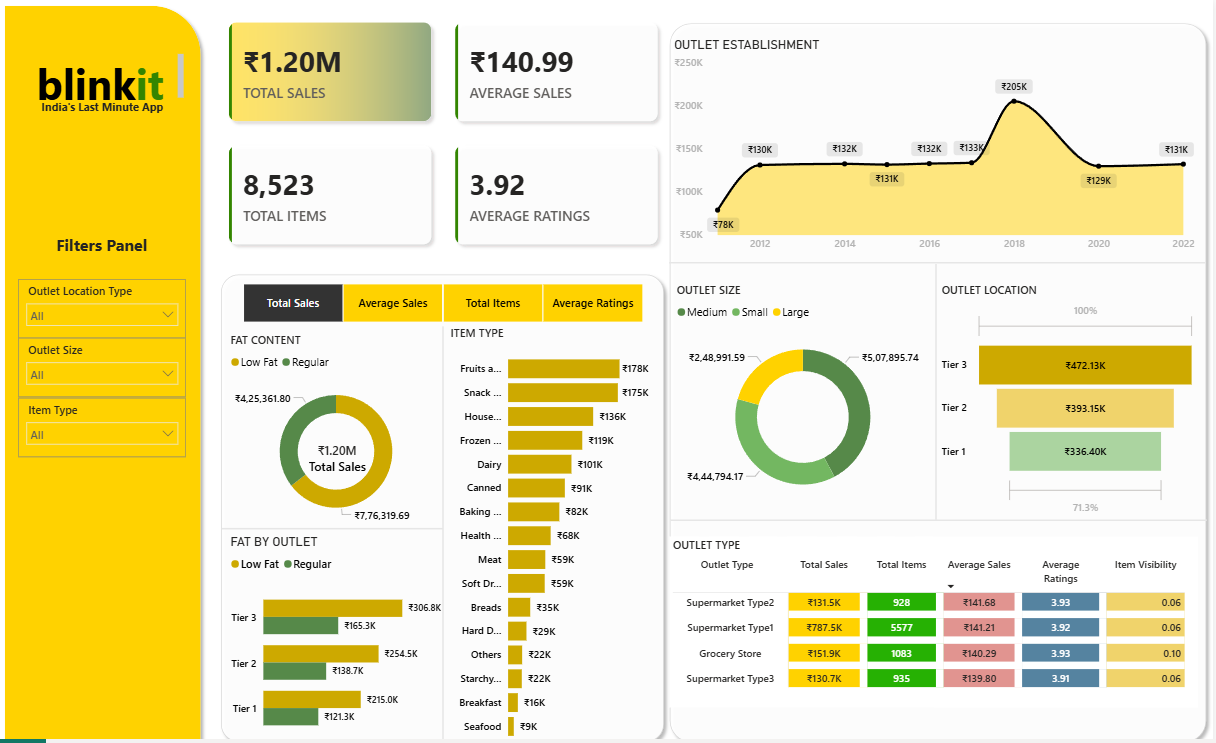

The dashboard page shown, as its layout file describes it:
{"tool":"powerbi","page":{"name":"Page 1","canvas":[1620,1000],"ordinal":0},"visuals":[{"type":"shape","box":[0,0,279.2,1400.5],"z":0},{"type":"textbox","box":[48,128,182,30],"z":1000},{"type":"textbox","box":[28,68,224,76],"z":2000},{"type":"cardVisual","fields":{"Data":["BlinkIT Grocery Data.Total Sales","BlinkIT Grocery Data.Average Sales","BlinkIT Grocery Data.Total Items","BlinkIT Grocery Data.Average Ratings"]},"box":[276.2,0,635,358.8],"z":3000},{"type":"shape","box":[288.6,358.6,608.6,641.4],"z":4000},{"type":"slicer","fields":{"Values":["Metrics.Metrics"]},"box":[301.2,372.5,581.2,63.8],"z":5000},{"type":"donutChart","title":"FAT CONTENT","fields":{"Y":["BlinkIT Grocery Data.Total Sales"],"Category":["BlinkIT Grocery Data.Item Fat Content"]},"box":[305,443.3,291.7,268.3],"z":6000},{"type":"cardVisual","fields":{"Data":["BlinkIT Grocery Data.Total Sales"]},"box":[383.3,556.7,138.3,111.7],"z":7000},{"type":"clusteredBarChart","title":"FAT BY OUTLET","fields":{"Y":["BlinkIT Grocery Data.Total Sales"],"Category":["BlinkIT Grocery Data.Outlet Location Type"],"Series":["BlinkIT Grocery Data.Item Fat Content"]},"box":[305,713.3,291.7,286.7],"z":8000},{"type":"shape","box":[298.8,700,295,12.5],"z":9000},{"type":"shape","box":[588.8,436.2,10,555],"z":10000},{"type":"barChart","title":"ITEM TYPE","fields":{"Y":["BlinkIT Grocery Data.Total Sales"],"Category":["BlinkIT Grocery Data.Item Type"]},"box":[598.6,434.3,274.3,565.7],"z":11000},{"type":"shape","box":[886.7,23.3,733.3,976.7],"z":12000},{"type":"lineChart","title":"OUTLET ESTABLISHMENT","fields":{"Y":["BlinkIT Grocery Data.Total Sales"],"Category":["BlinkIT Grocery Data.Outlet Establishment Year"]},"box":[896,50,704,296],"z":13000},{"type":"shape","box":[895.6,345.6,714.4,13.3],"z":14000},{"type":"donutChart","title":"OUTLET SIZE","fields":{"Y":["BlinkIT Grocery Data.Total Sales"],"Category":["BlinkIT Grocery Data.Outlet Size"]},"box":[900,376.7,346.7,310],"z":15000},{"type":"shape","box":[1246,354,8,341],"z":16000},{"type":"funnel","title":"OUTLET LOCATION","fields":{"Y":["BlinkIT Grocery Data.Total Sales"],"Category":["BlinkIT Grocery Data.Outlet Location Type"]},"box":[1253.3,376.7,348.3,318.3],"z":17000},{"type":"shape","box":[896.7,688.3,715,13.3],"z":18000},{"type":"pivotTable","title":"OUTLET TYPE","fields":{"Values":["BlinkIT Grocery Data.Total Sales","BlinkIT Grocery Data.Total Items","BlinkIT Grocery Data.Average Sales","BlinkIT Grocery Data.Average Ratings","Avg(BlinkIT Grocery Data.Item Visibility)"],"Rows":["BlinkIT Grocery Data.Outlet Type"]},"box":[895,716.7,705,228.3],"z":19000},{"type":"slicer","fields":{"Values":["BlinkIT Grocery Data.Outlet Location Type"]},"box":[27,373,224,79],"z":20000},{"type":"slicer","fields":{"Values":["BlinkIT Grocery Data.Outlet Size"]},"box":[27,452,224,79],"z":21000},{"type":"slicer","fields":{"Values":["BlinkIT Grocery Data.Item Type"]},"box":[27,531,224,79],"z":22000},{"type":"textbox","box":[68.8,307.5,140,51.2],"z":23000}]}

Visuals, with their boxes in screenshot pixels (x1, y1, x2, y2), scaled from the page's 1620x1000 canvas onto the 1216x743 screenshot:
shape: <bbox>0, 0, 210, 742</bbox>
textbox: <bbox>36, 95, 173, 117</bbox>
textbox: <bbox>21, 51, 189, 107</bbox>
cardVisual - BlinkIT Grocery Data.Total Sales x BlinkIT Grocery Data.Average Sales: <bbox>207, 0, 684, 267</bbox>
shape: <bbox>217, 266, 673, 742</bbox>
slicer - Metrics.Metrics: <bbox>226, 277, 662, 324</bbox>
"FAT CONTENT" donutChart: <bbox>229, 329, 448, 529</bbox>
cardVisual - BlinkIT Grocery Data.Total Sales: <bbox>288, 414, 392, 497</bbox>
"FAT BY OUTLET" clusteredBarChart: <bbox>229, 530, 448, 742</bbox>
shape: <bbox>224, 520, 446, 529</bbox>
shape: <bbox>442, 324, 449, 736</bbox>
"ITEM TYPE" barChart: <bbox>449, 323, 655, 742</bbox>
shape: <bbox>666, 17, 1215, 742</bbox>
"OUTLET ESTABLISHMENT" lineChart: <bbox>673, 37, 1201, 257</bbox>
shape: <bbox>672, 257, 1208, 267</bbox>
"OUTLET SIZE" donutChart: <bbox>676, 280, 936, 510</bbox>
shape: <bbox>935, 263, 941, 516</bbox>
"OUTLET LOCATION" funnel: <bbox>941, 280, 1202, 516</bbox>
shape: <bbox>673, 511, 1210, 521</bbox>
"OUTLET TYPE" pivotTable: <bbox>672, 533, 1201, 702</bbox>
slicer - BlinkIT Grocery Data.Outlet Location Type: <bbox>20, 277, 188, 336</bbox>
slicer - BlinkIT Grocery Data.Outlet Size: <bbox>20, 336, 188, 395</bbox>
slicer - BlinkIT Grocery Data.Item Type: <bbox>20, 395, 188, 453</bbox>
textbox: <bbox>52, 228, 157, 267</bbox>
